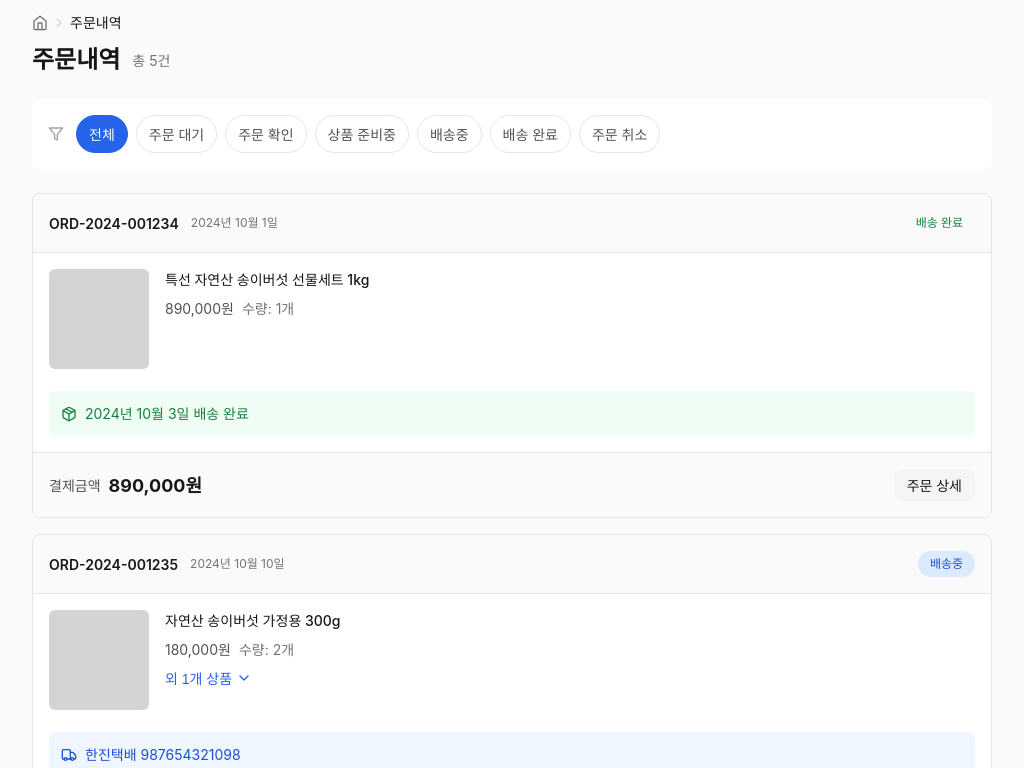
Scenario: OrdersPage › status filters › should filter orders by delivered status
What coordinates should you click on to do the following:
click the button "배송 완료"
I would click on:
 (530, 134)
Its box is [490,115,571,153].
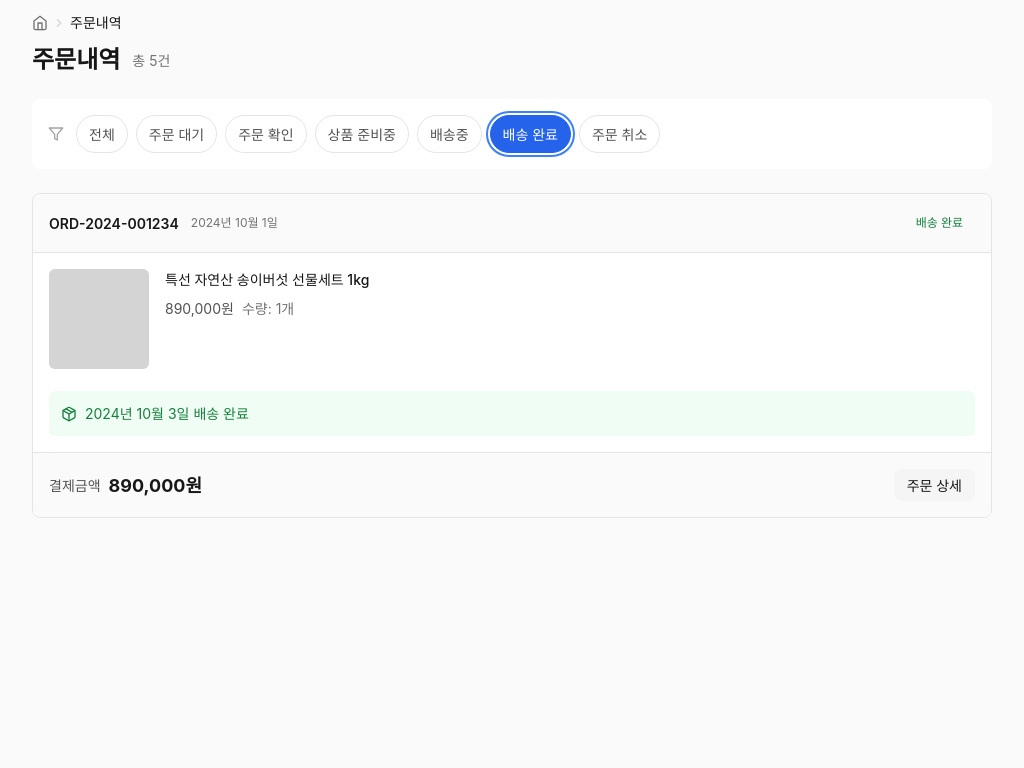
Expected: the text "ORD-2024-001234" is shown, [49,212,179,234]
Expected: the text "ORD-2024-001235" is gone
